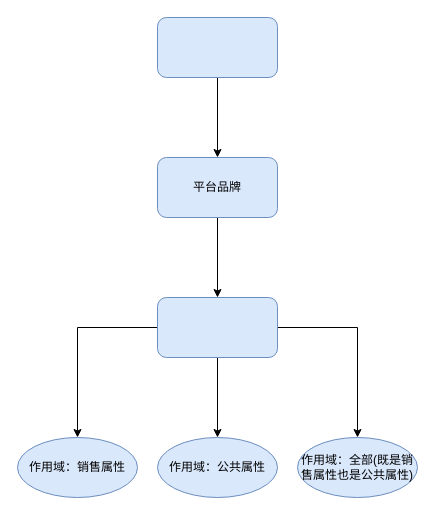
Some shapes in this 435 by 515 pixel diagram are drawn without their labels. The box of each missing label's shape, as (x1, y1, x2, y2) in pixels:
属性组: (156, 296, 278, 358)
平台分类: (156, 16, 278, 78)
